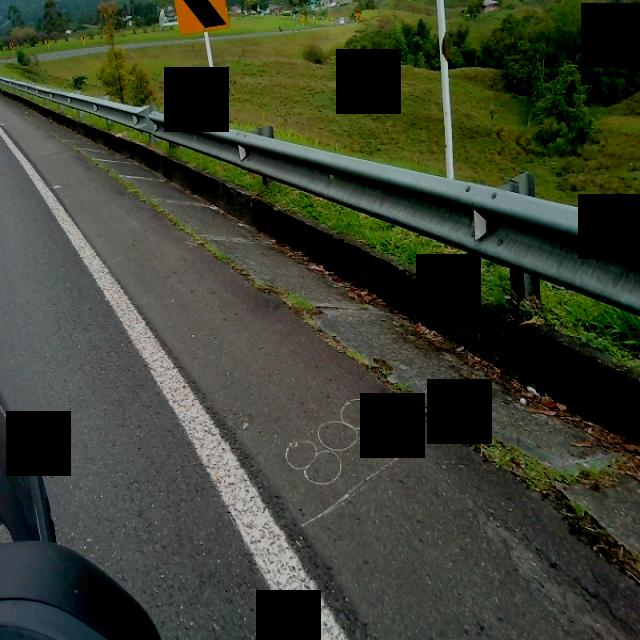DITCH: (2, 48, 637, 638), (2, 86, 638, 637)
